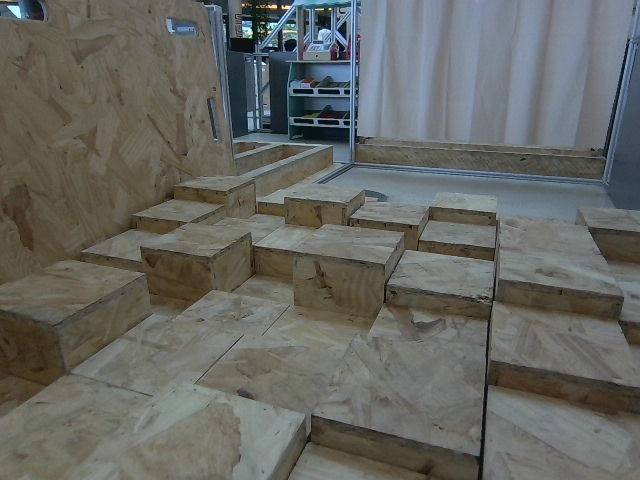curtain: (358, 0, 611, 142)
